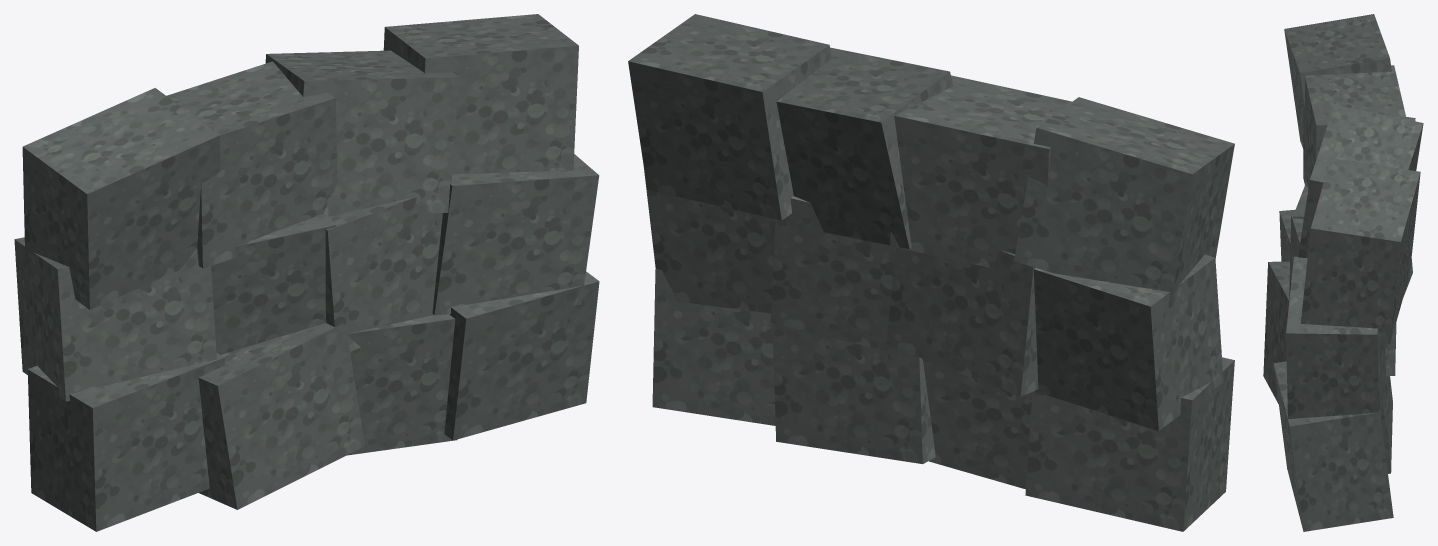
The model's file is en-014_cave_wall_module__corner.obj.
The picture shows the model from 3 angles, left to right: view 1: azimuth 30°, elevation 25°; view 2: azimuth 150°, elevation 25°; view 3: azimuth 270°, elevation 25°; orthographic projection. The views are drawn at different scales.
Visible parts, largest first — view 1: en-014_cave_wall_module__corner; view 2: en-014_cave_wall_module__corner; view 3: en-014_cave_wall_module__corner.
Part boxes in pixels (x1,y1,x2,y2): en-014_cave_wall_module__corner: (14, 14, 599, 531); en-014_cave_wall_module__corner: (628, 14, 1234, 531); en-014_cave_wall_module__corner: (1263, 14, 1423, 531).
Size of the model in its own units: 2.4 by 1.63 by 0.7362.
1 material, 1 textured.
